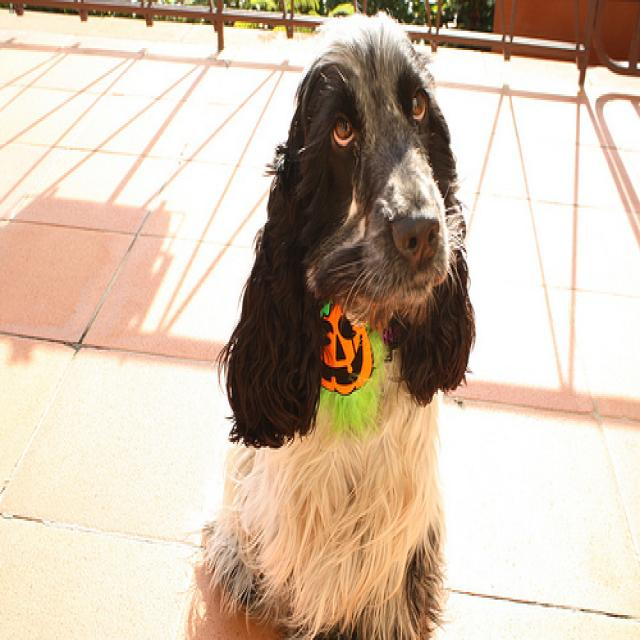dog-english_cocker_spaniel: (188, 4, 489, 636)
